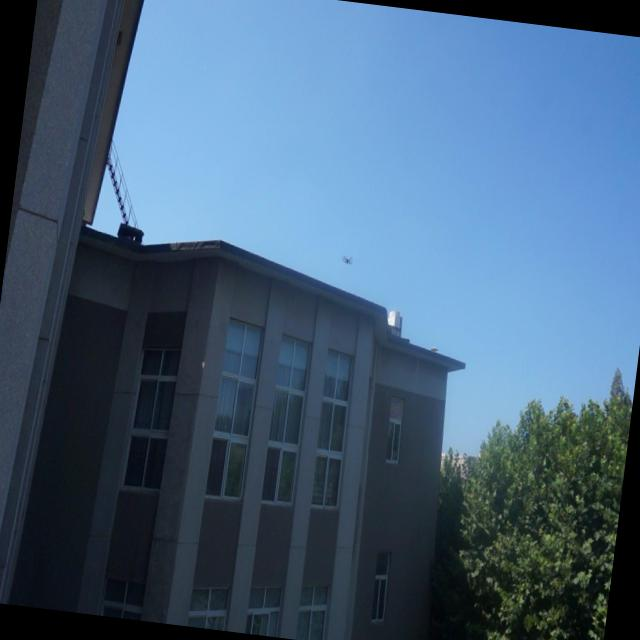drone: (337, 248, 355, 270)
